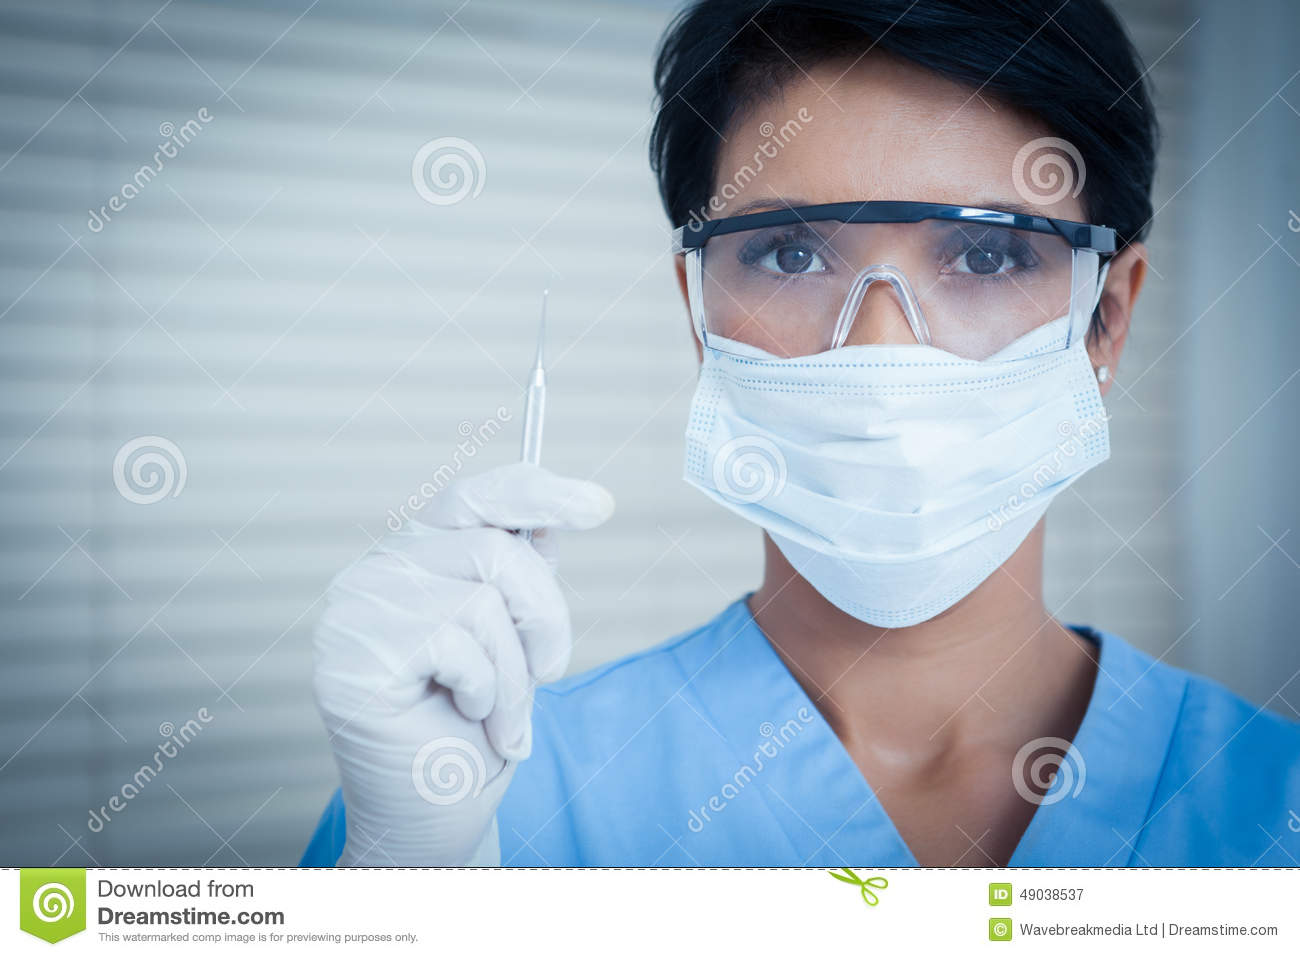mask: (675, 320, 1133, 639)
